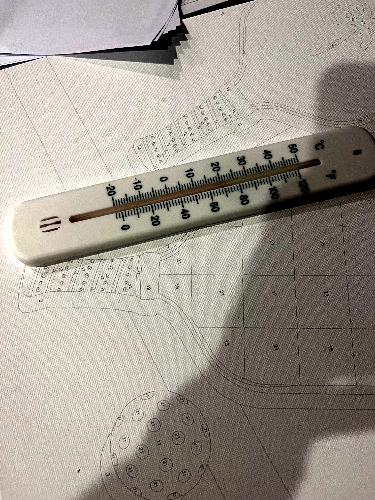thermo: (9, 122, 375, 269)
